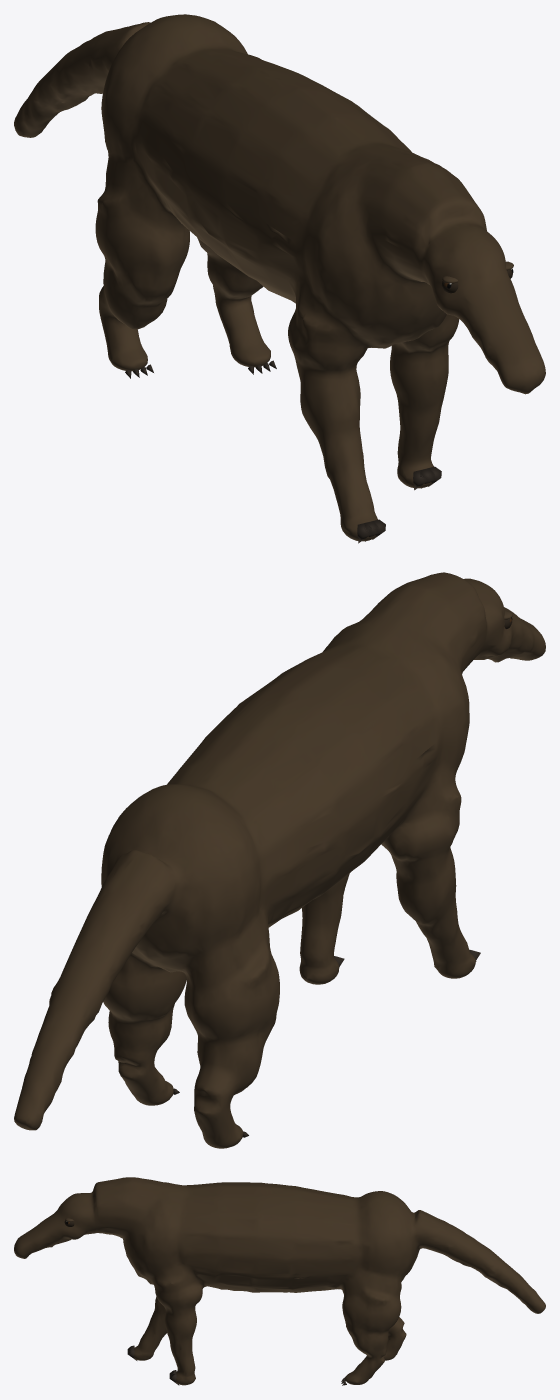
Rendered from ThalassocnusNatans.fbx.
The picture shows the model from 3 angles, top to bottom: view 1: azimuth 30°, elevation 25°; view 2: azimuth 150°, elevation 25°; view 3: azimuth 270°, elevation 25°; orthographic projection. The views are drawn at different scales.
Visible parts, largest first — view 1: ThalassocnusNatans; view 2: ThalassocnusNatans; view 3: ThalassocnusNatans.
Part boxes in pixels (<box>): ThalassocnusNatans: <box>14,14,545,543</box>; ThalassocnusNatans: <box>14,572,545,1148</box>; ThalassocnusNatans: <box>14,1177,545,1385</box>.
Bounding box in the file's own units: 0.427 × 0.9105 × 2.28.
